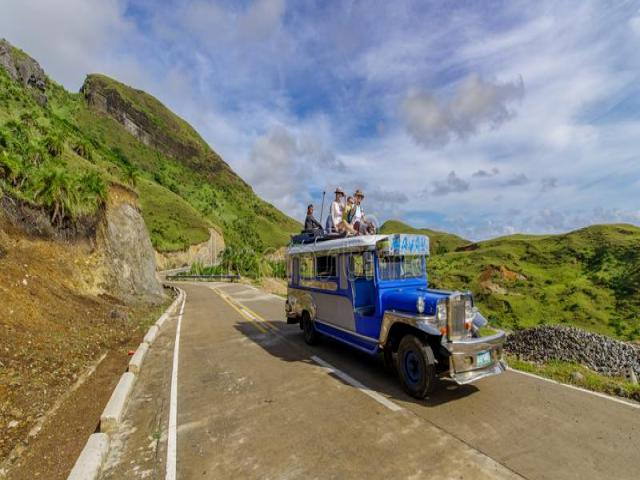jeepney: (279, 233, 513, 420)
